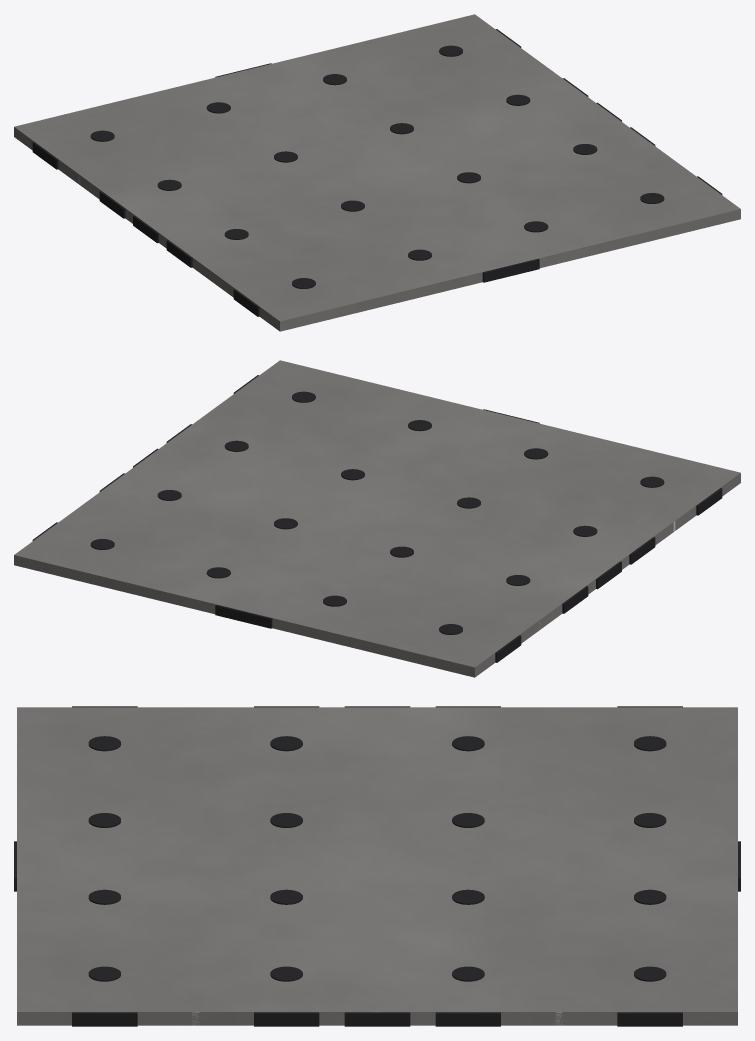
Rendered from rover14_deck_plate_2x2.glb.
3 renders of one model, top to bottom at view 1: azimuth 30°, elevation 25°; view 2: azimuth 150°, elevation 25°; view 3: azimuth 270°, elevation 25°, orthographic. The views are drawn at different scales.
Parts seen in each view (by area): view 1: plate, sockets_top, hardpoints, end_hardpoints; view 2: plate, sockets_top, hardpoints, end_hardpoints; view 3: plate, sockets_top, hardpoints.
Boxes of the visible parts, left/top/right/bottom form: plate: left=14, top=14, right=740, bottom=331; sockets_top: left=90, top=45, right=664, bottom=288; hardpoints: left=32, top=29, right=722, bottom=316; end_hardpoints: left=215, top=63, right=539, bottom=282; plate: left=14, top=360, right=740, bottom=677; sockets_top: left=90, top=391, right=664, bottom=634; hardpoints: left=32, top=375, right=722, bottom=662; end_hardpoints: left=215, top=409, right=539, bottom=628; plate: left=17, top=707, right=737, bottom=1025; sockets_top: left=88, top=736, right=666, bottom=981; hardpoints: left=72, top=706, right=682, bottom=1026.
Size of the model in its own units: 2 by 0.05 by 2.
3 materials, 2 textured.
